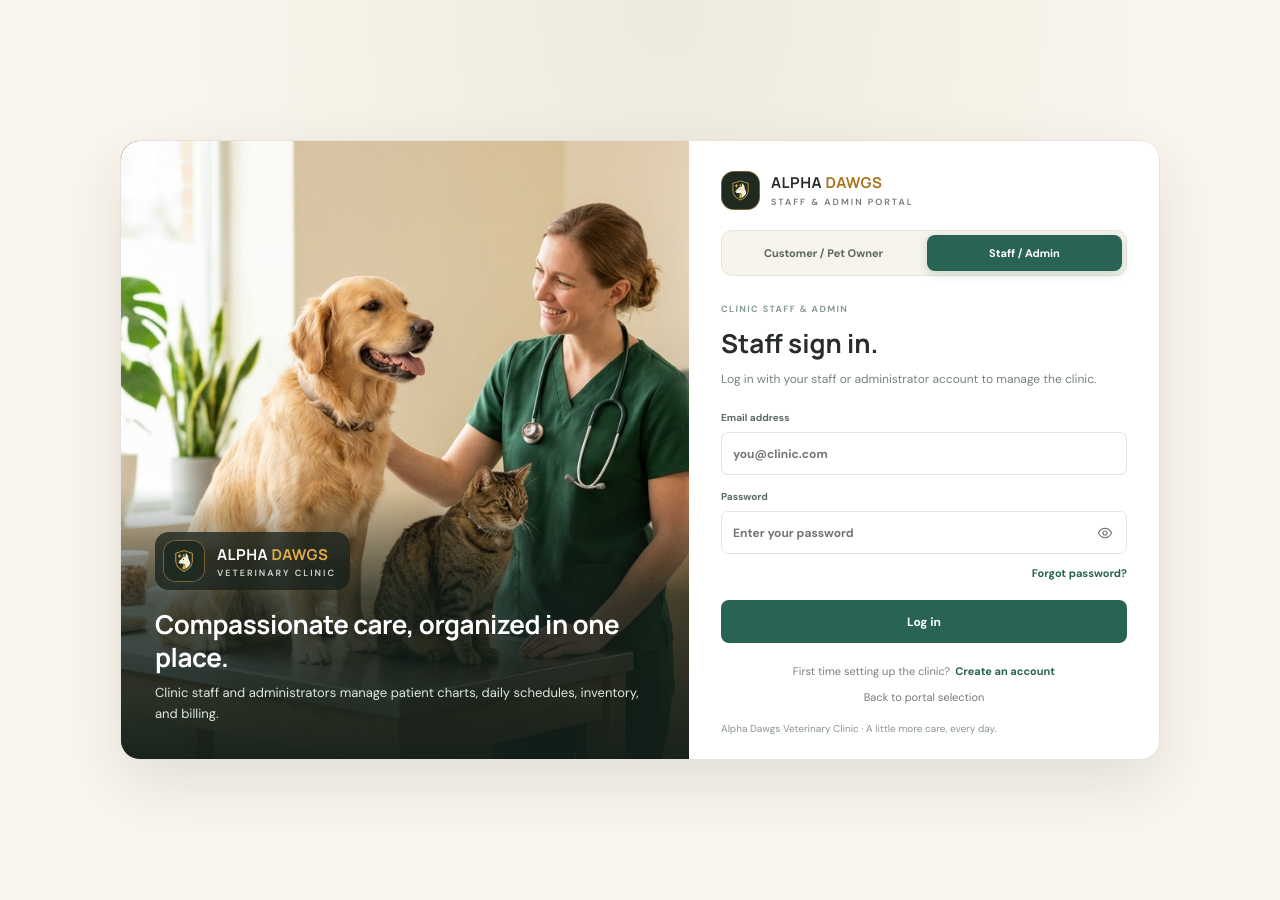
Scenario: clinic portals and routing › does not submit admin registration when password confirmation does not match
Click the button "Create an account" at (1005, 671), box 955,664 -> 1055,678
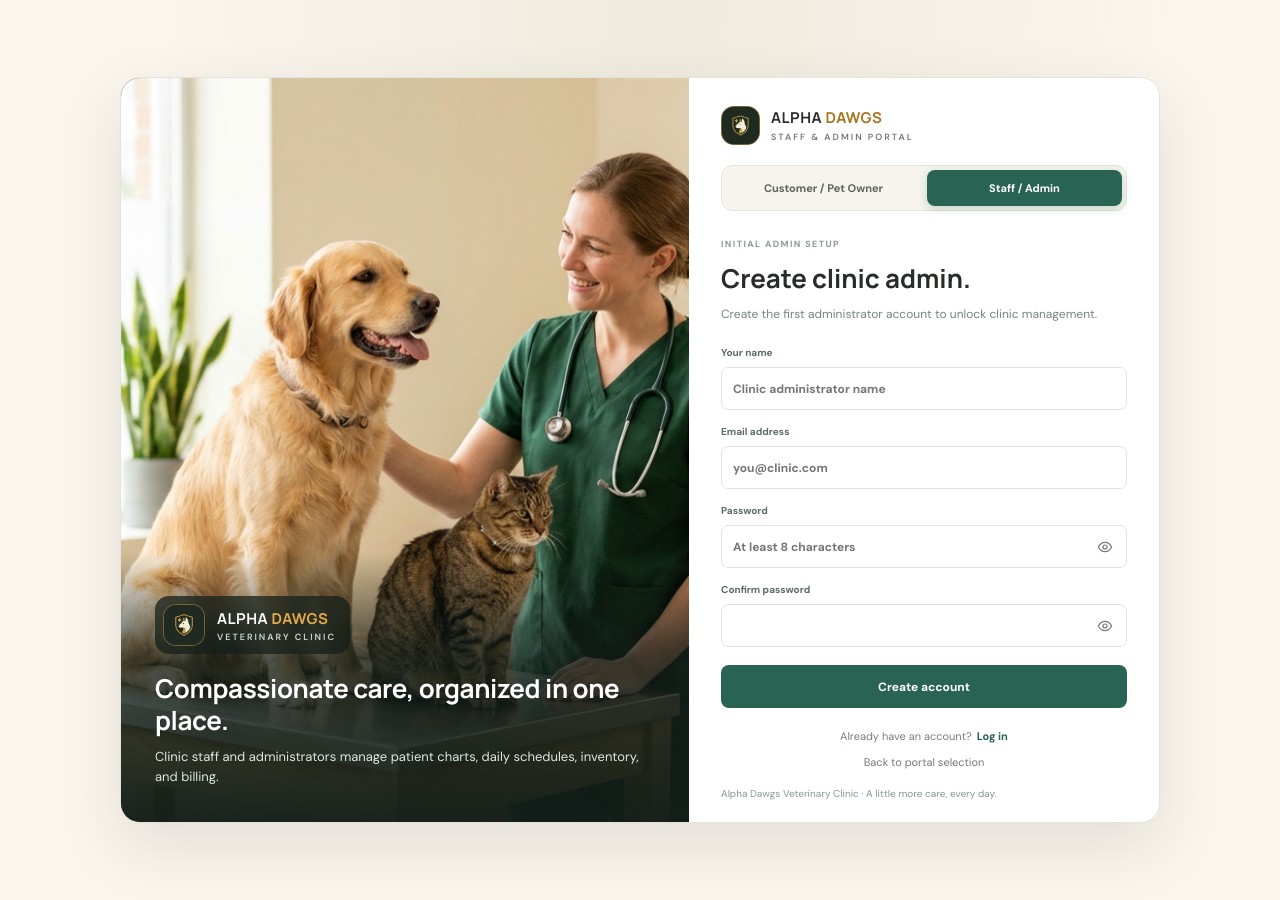
Type "Clinic Staff" into the field labelled "Your name" at (924, 389), box 721,367 -> 1127,410
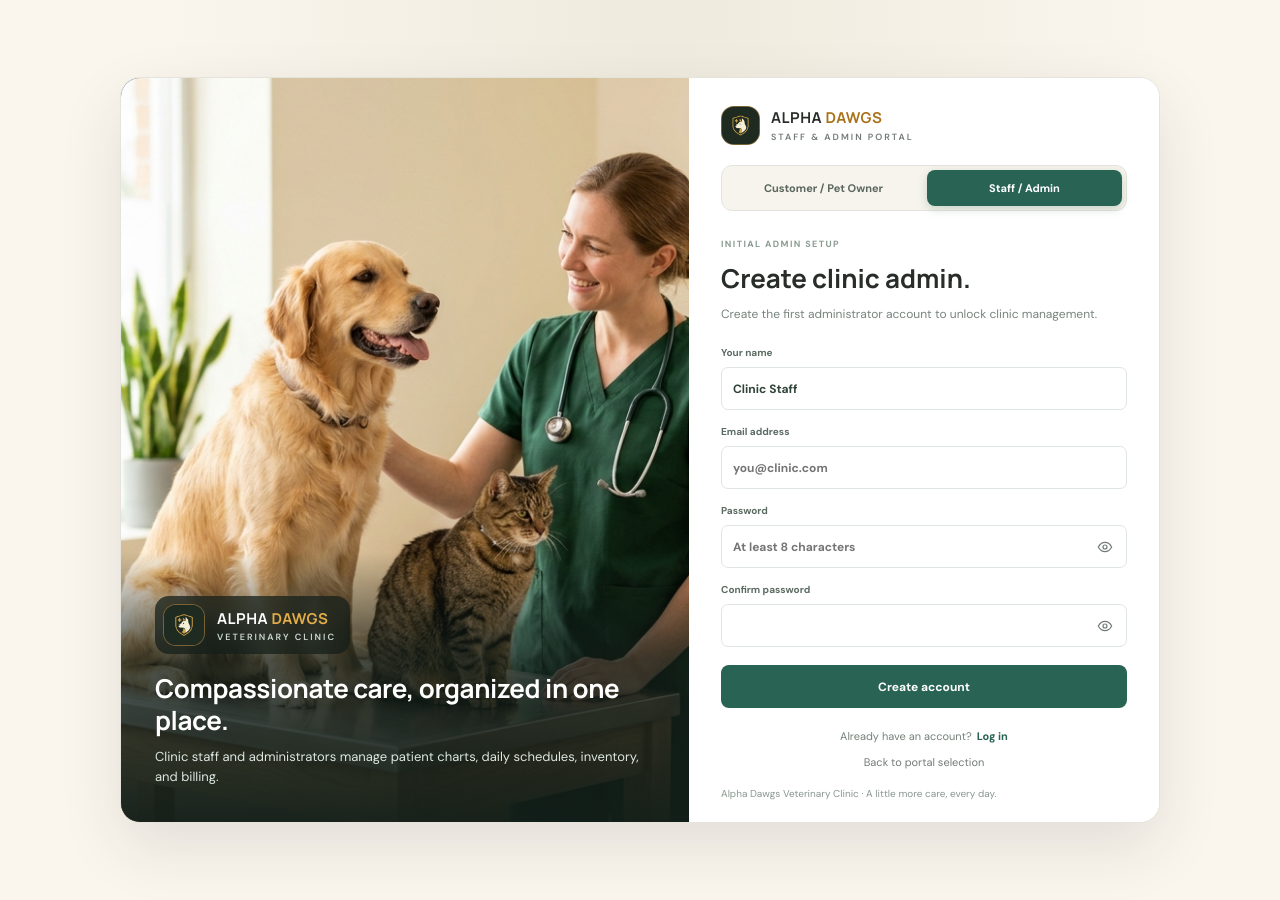
Type "staff@example.com" into the field labelled "Email address" at (924, 468), box 721,446 -> 1127,489
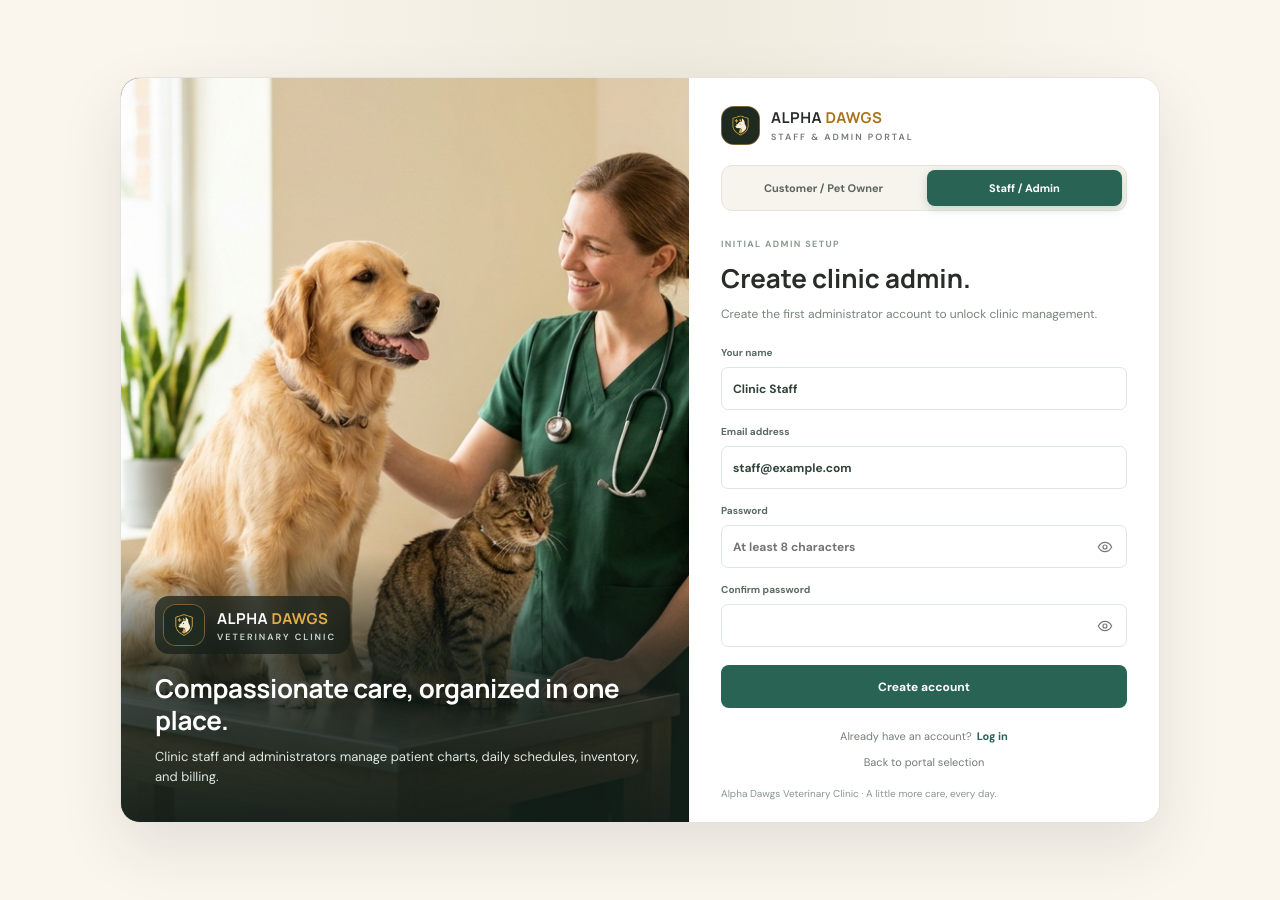
Type "StrongPass123" into the password field labelled "Password" at (924, 547), box 721,525 -> 1127,568
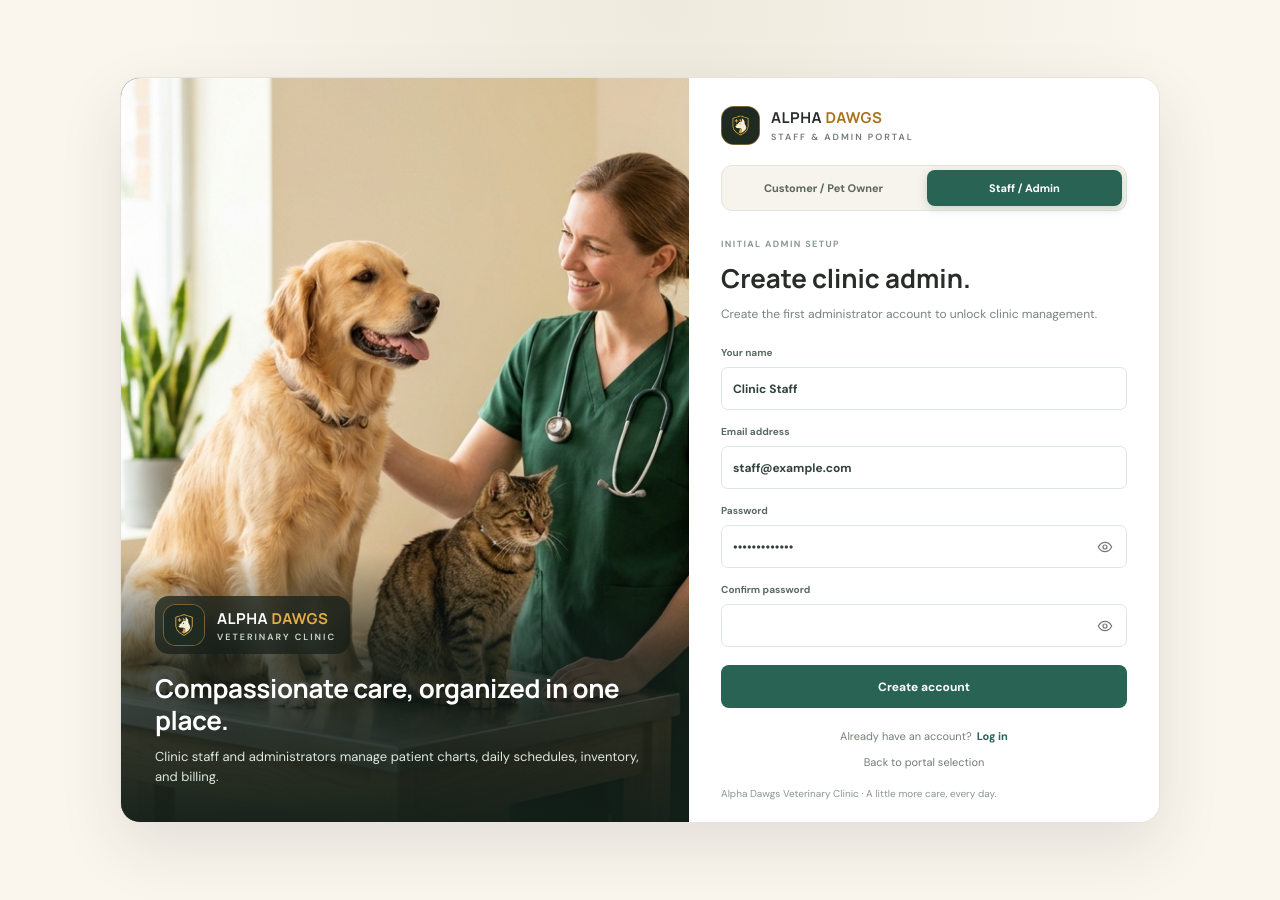
Type "DifferentPass123" into the password field labelled "Confirm password" at (924, 626), box 721,604 -> 1127,647
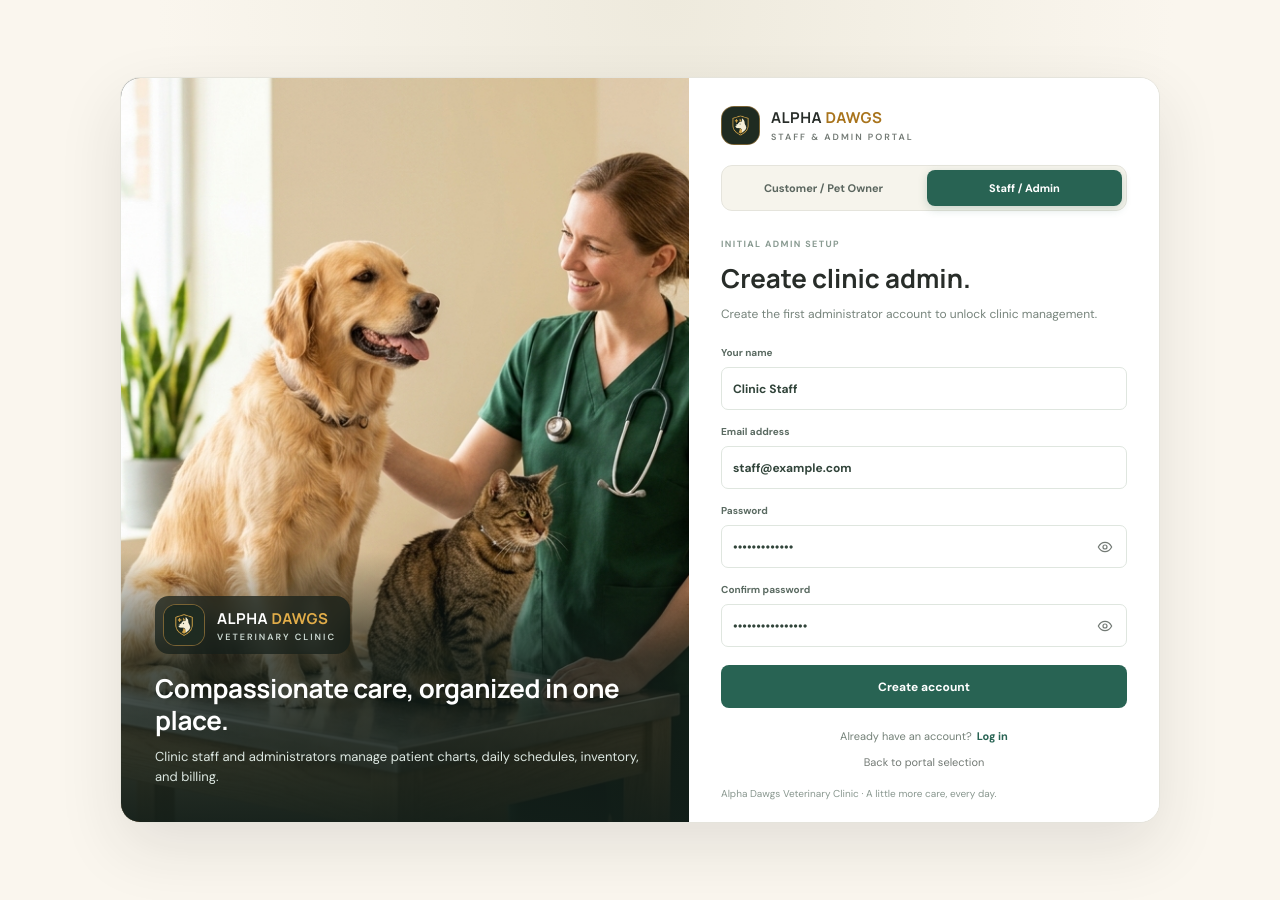
Click the button "Create account" at (924, 687), box 721,665 -> 1127,708
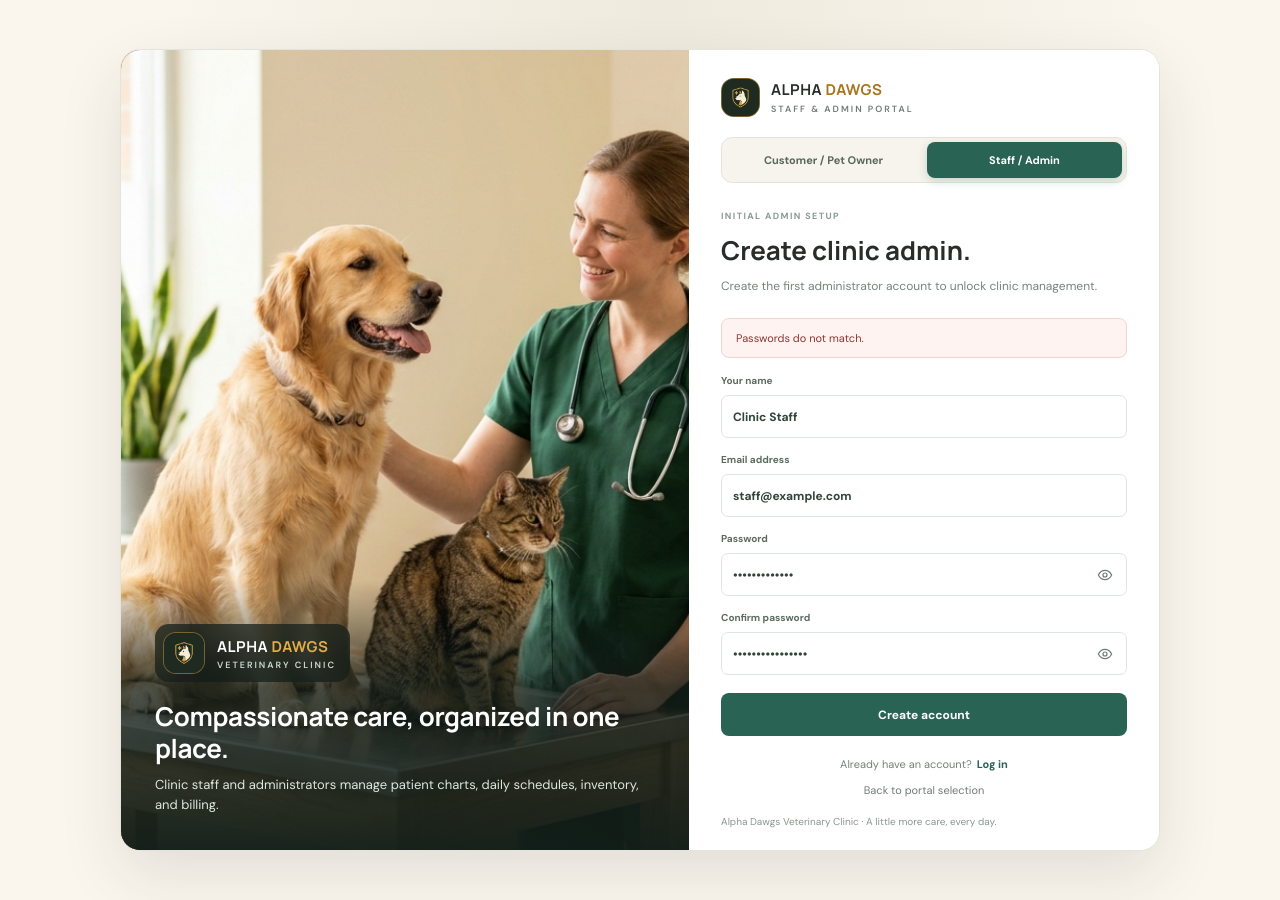
expect the message reads "Passwords do not match.": met, box 736,331 -> 864,345
